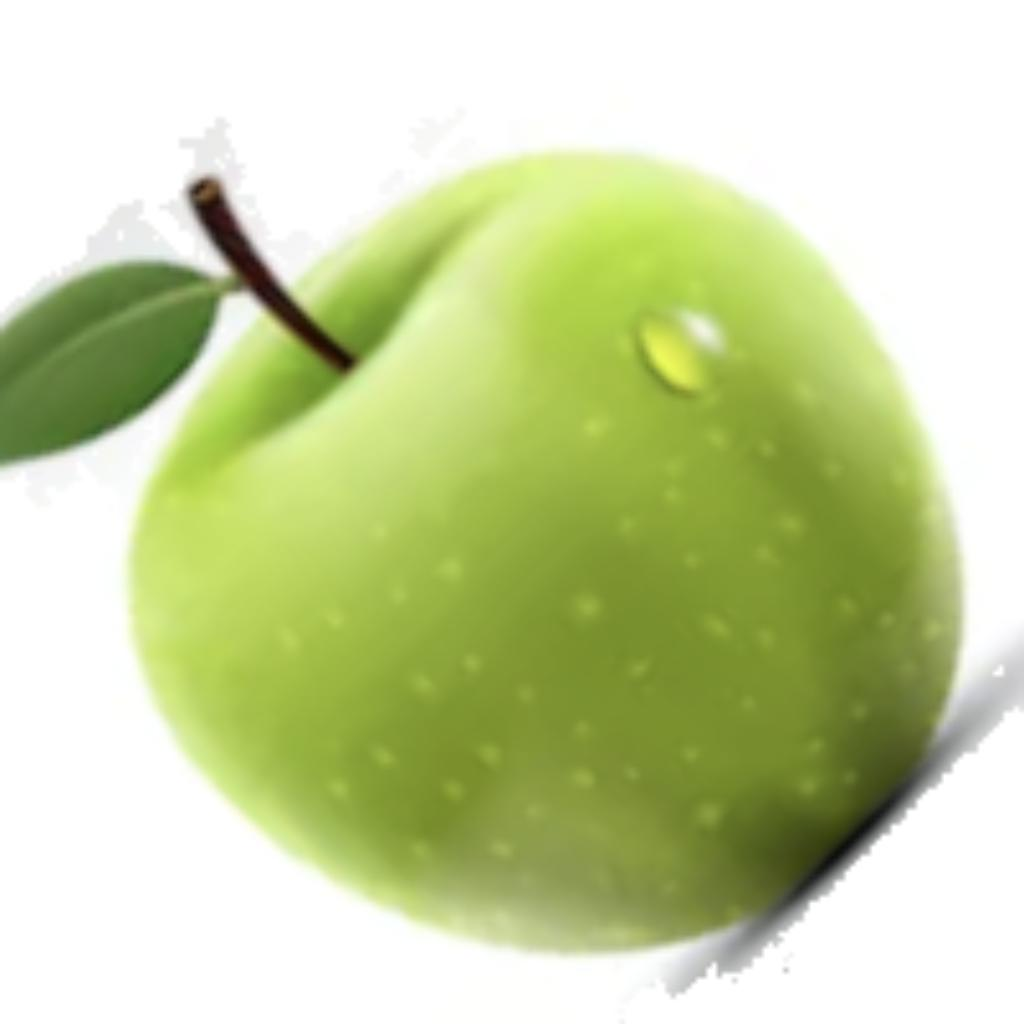apple: (0, 113, 1019, 998)
